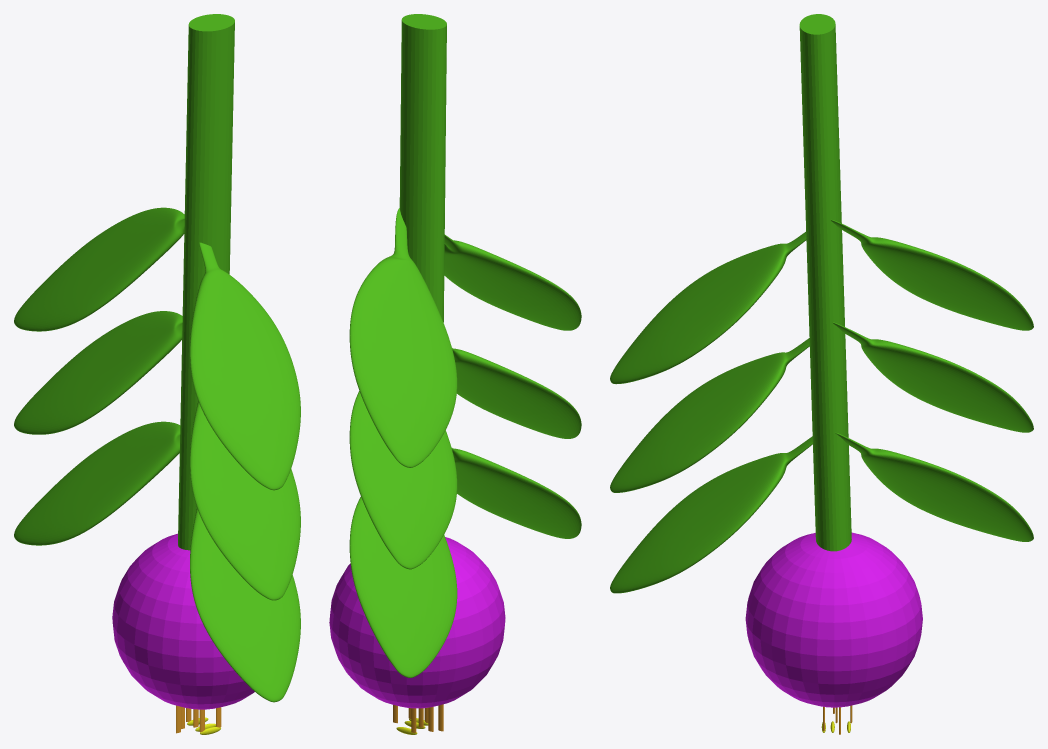
Rendered from flor rosa.fbx.
The picture shows the model from 3 angles, left to right: view 1: azimuth 30°, elevation 25°; view 2: azimuth 150°, elevation 25°; view 3: azimuth 270°, elevation 25°; orthographic projection.
Parts seen in each view (by area): view 1: Cubo.006, Cilindro, Esfera UV, Cubo.003, Cubo.001, Cubo.005, Cubo.004, Cubo.002; view 2: Cubo.005, Esfera UV, Cilindro, Cubo.002, Cubo.004, Cubo.006, Cubo.001, Cubo.003; view 3: Esfera UV, Cilindro, Cubo.001, Cubo.003, Cubo.006, Cubo.005, Cubo.004, Cubo.002.
Boxes of the visible parts, x1,y1,x2,y2 form: Cubo.006: [190, 242, 300, 490]; Cilindro: [178, 14, 234, 550]; Esfera UV: [112, 533, 254, 709]; Cubo.003: [190, 401, 300, 600]; Cubo.001: [190, 508, 300, 702]; Cubo.005: [14, 207, 184, 331]; Cubo.004: [14, 311, 182, 434]; Cubo.002: [14, 421, 180, 545]; Cubo.005: [349, 208, 457, 467]; Esfera UV: [329, 537, 505, 708]; Cilindro: [399, 14, 446, 322]; Cubo.002: [349, 497, 457, 677]; Cubo.004: [349, 391, 457, 569]; Cubo.006: [444, 234, 581, 330]; Cubo.001: [451, 447, 581, 538]; Cubo.003: [452, 348, 581, 438]; Esfera UV: [745, 532, 922, 707]; Cilindro: [799, 14, 851, 551]; Cubo.001: [610, 436, 812, 593]; Cubo.003: [610, 338, 809, 492]; Cubo.006: [610, 231, 806, 384]; Cubo.005: [831, 219, 1033, 330]; Cubo.004: [832, 322, 1033, 432]; Cubo.002: [835, 432, 1033, 541].
Size of the model in its own units: 83.11 by 327 by 178.
